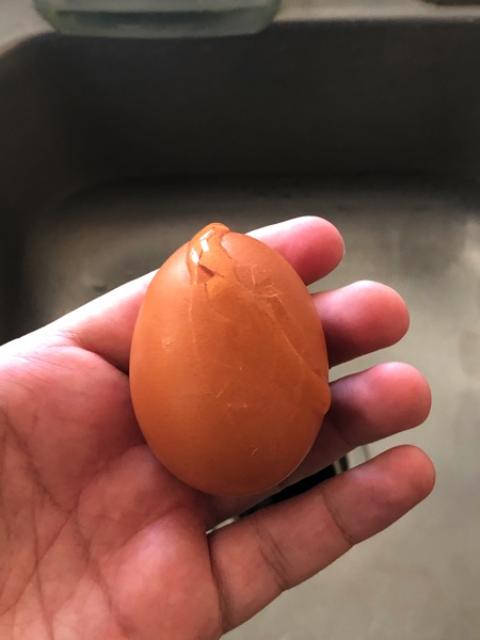Roto: (127, 221, 332, 497)
